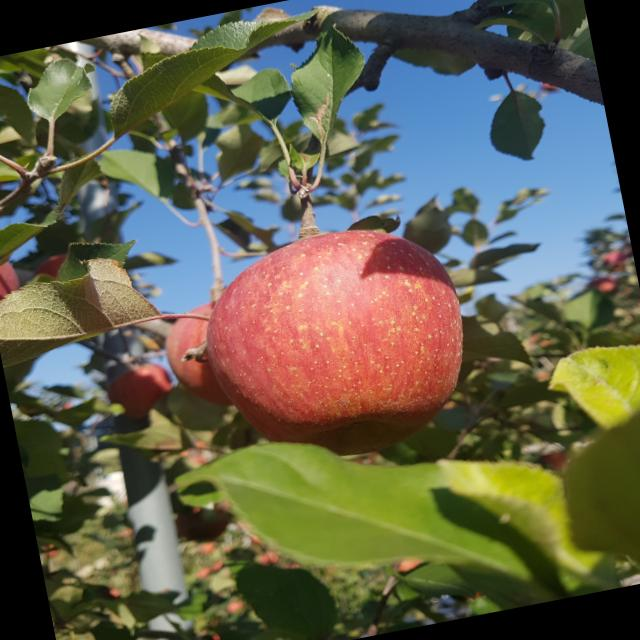fresh: (179, 206, 497, 480)
